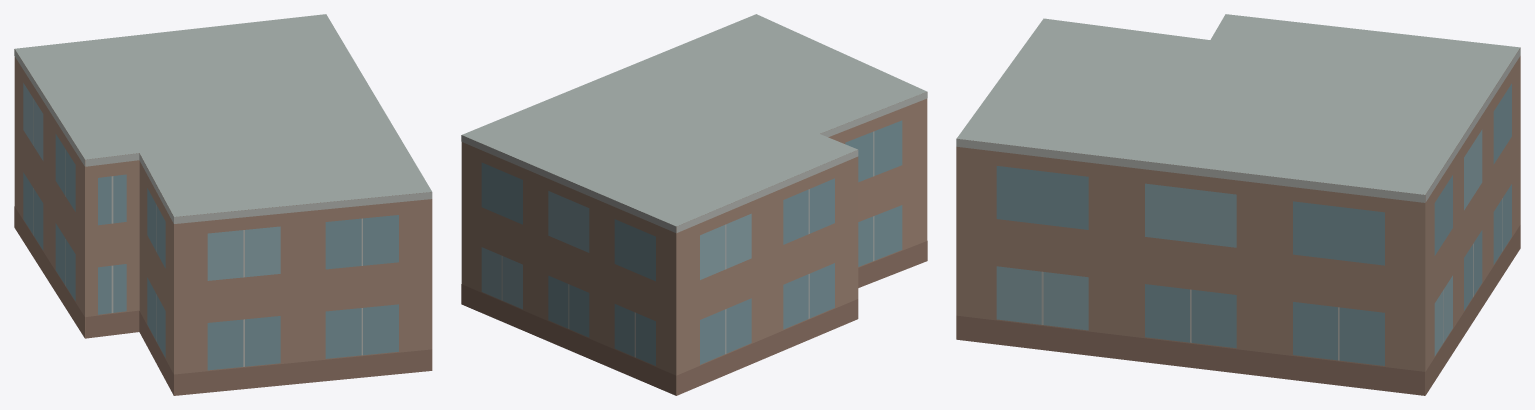
The model's file is survey-upis-32795452.glb.
3 views of the same model, side by side, from view 1: azimuth 30°, elevation 25°; view 2: azimuth 150°, elevation 25°; view 3: azimuth 270°, elevation 25° (orthographic). The views are drawn at different scales.
Parts seen in each view (by area): view 1: survey-upis-32795452.tmp; view 2: survey-upis-32795452.tmp; view 3: survey-upis-32795452.tmp.
Boxes of the visible parts, left/top/right/bottom form: survey-upis-32795452.tmp: left=14, top=14, right=432, bottom=395; survey-upis-32795452.tmp: left=461, top=14, right=927, bottom=395; survey-upis-32795452.tmp: left=956, top=14, right=1520, bottom=395.
Size of the model in its own units: 11.79 by 6.1 by 15.53.
